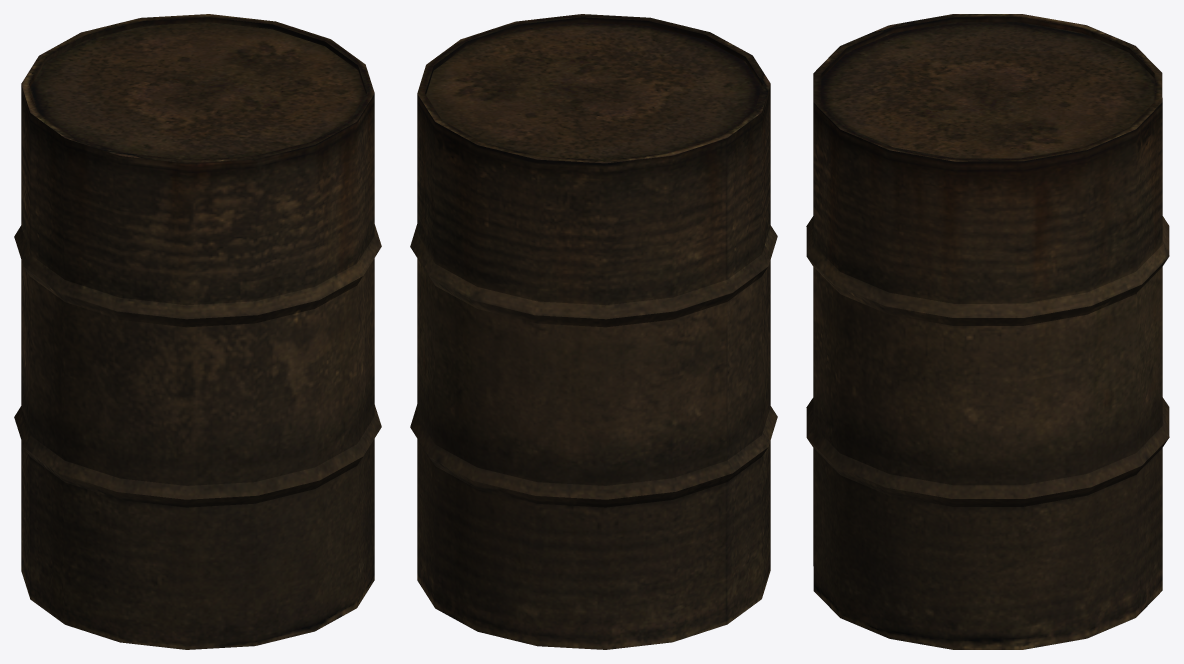
The model's file is metal_barrel_hr_4_1.obj.
3 views of the same model, side by side, from view 1: azimuth 30°, elevation 25°; view 2: azimuth 150°, elevation 25°; view 3: azimuth 270°, elevation 25° (orthographic).
Visible parts, largest first — view 1: metal_barrel_hr_4_1; view 2: metal_barrel_hr_4_1; view 3: metal_barrel_hr_4_1.
Boxes of the visible parts, <box> form: metal_barrel_hr_4_1: <box>14,14,381,649</box>; metal_barrel_hr_4_1: <box>410,14,777,649</box>; metal_barrel_hr_4_1: <box>806,14,1169,649</box>.
Bounding box in the file's own units: 0.6735 × 1 × 0.6735.
